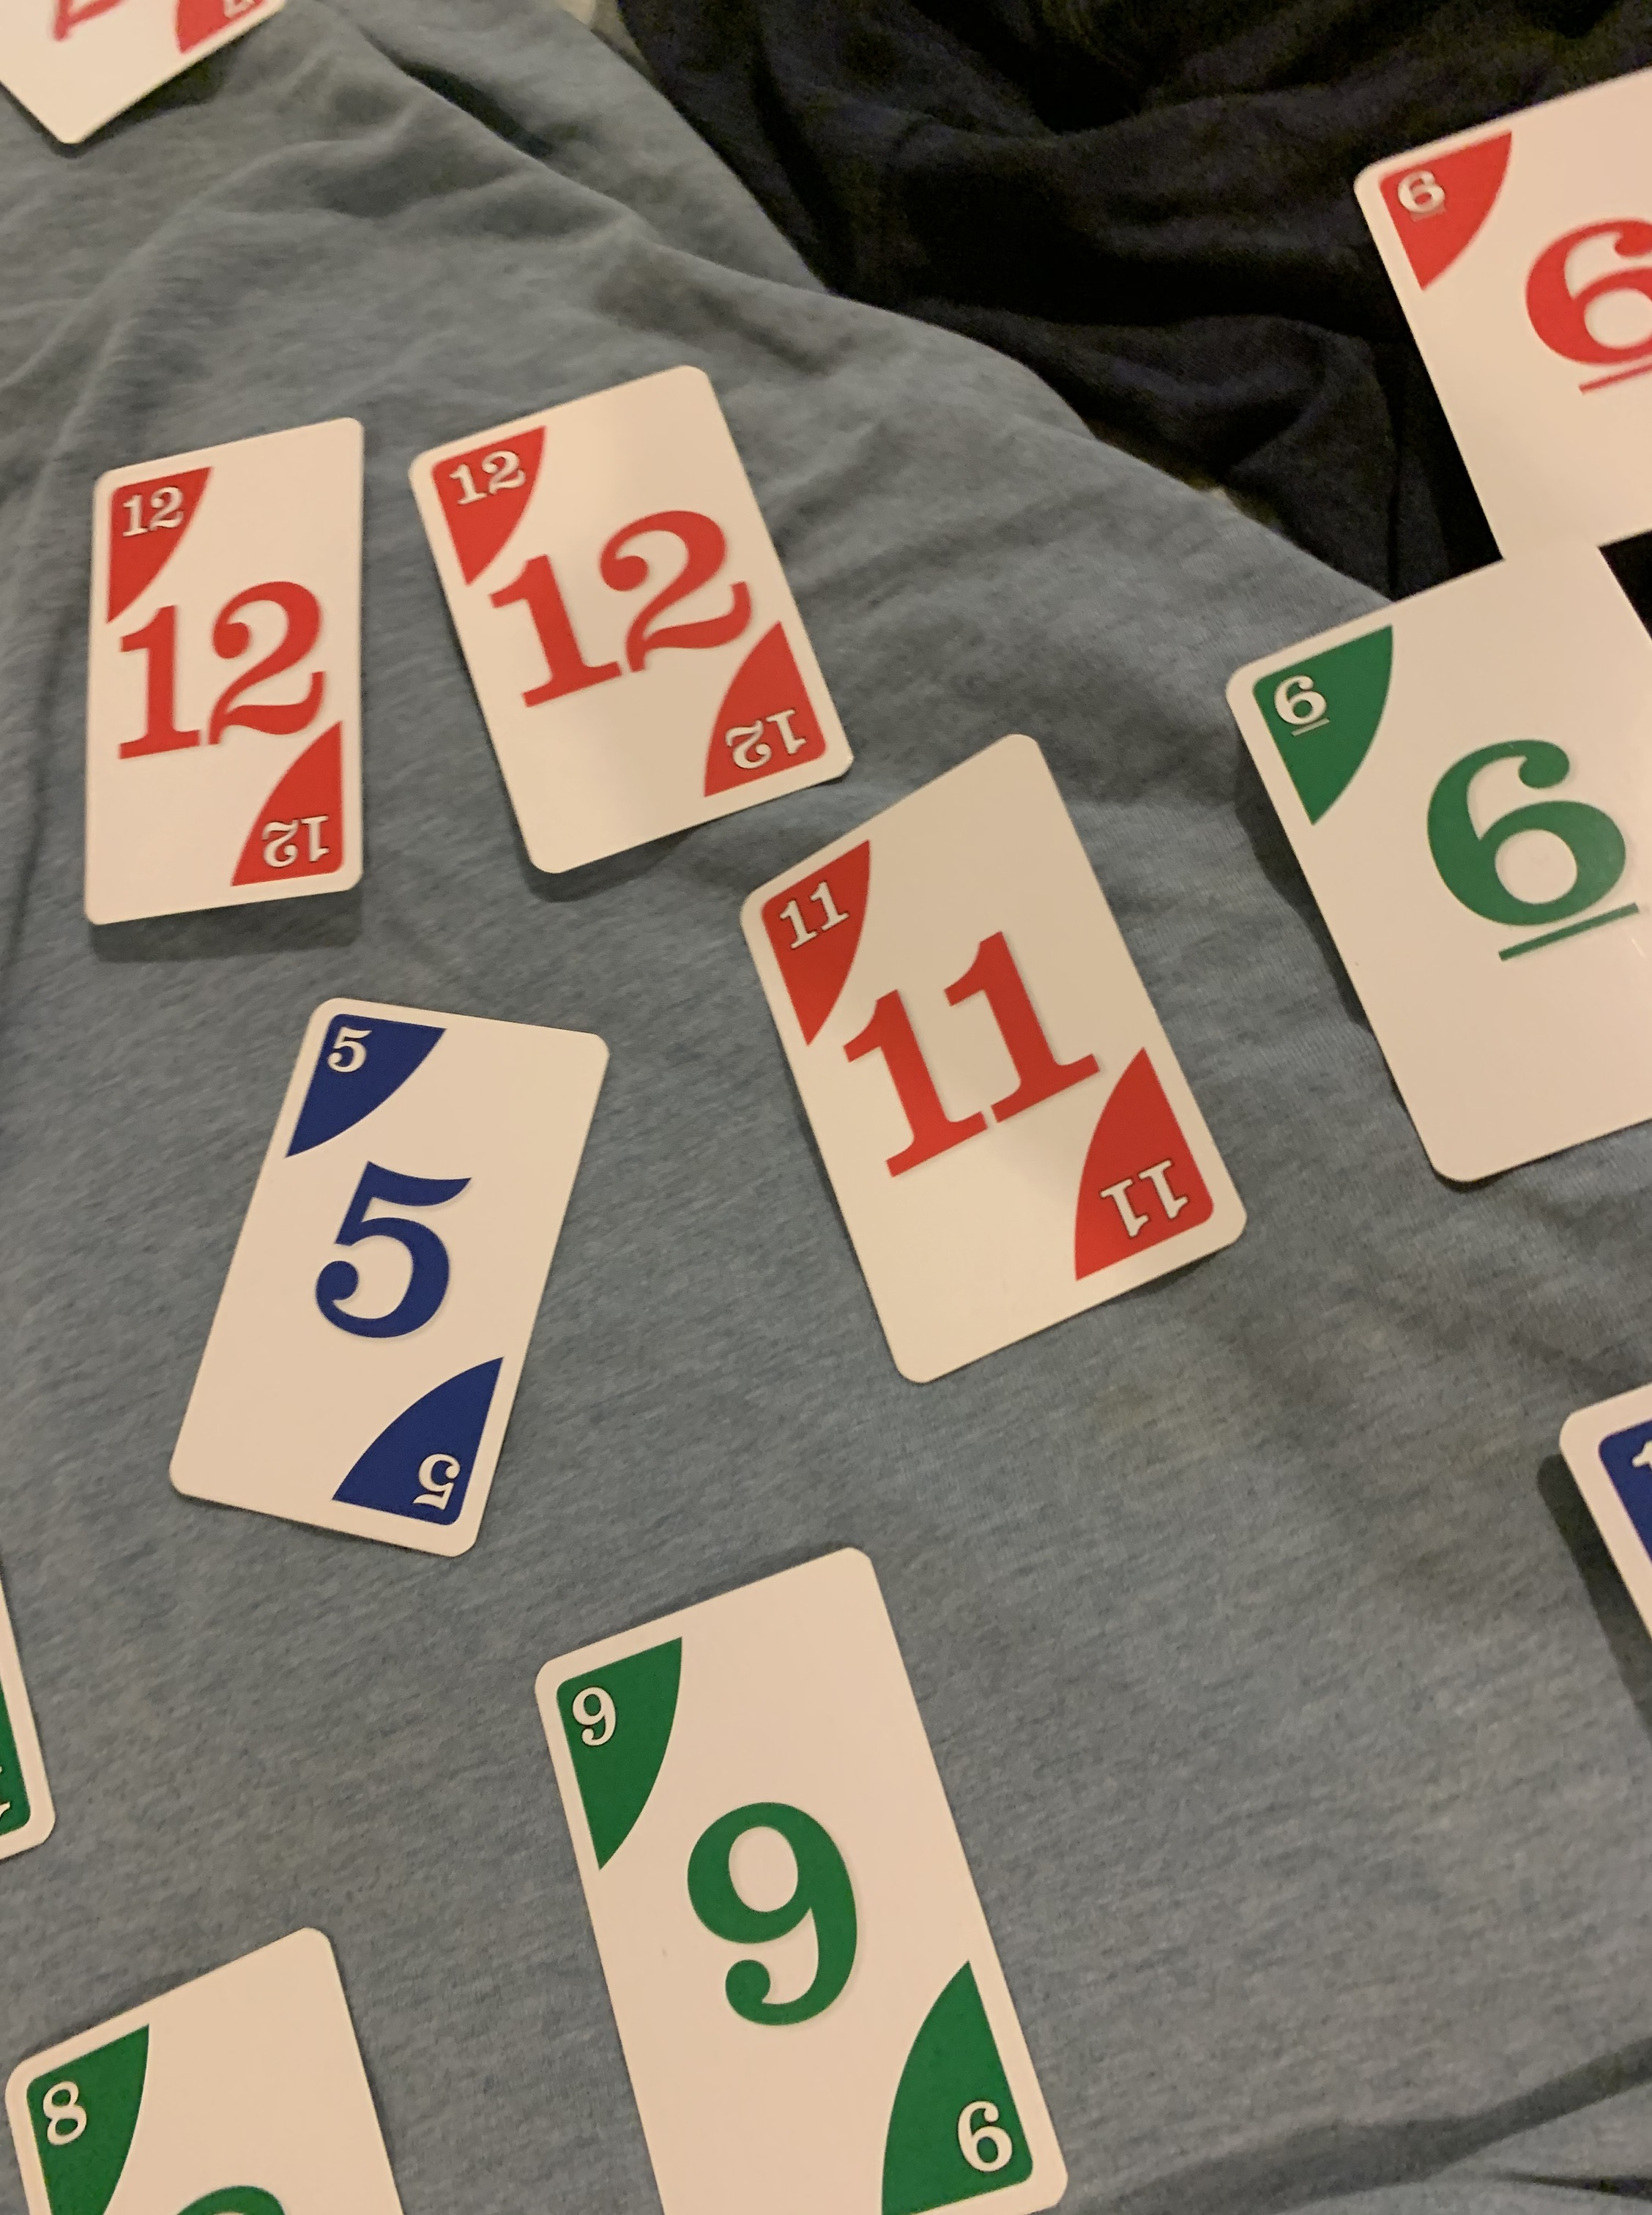eleven: (729, 734, 1260, 1387)
five: (149, 983, 625, 1576)
nine: (514, 1535, 1078, 2215)
six: (1229, 490, 1652, 1177), (1352, 75, 1652, 554)
twelve: (396, 352, 864, 887), (61, 394, 364, 948)
